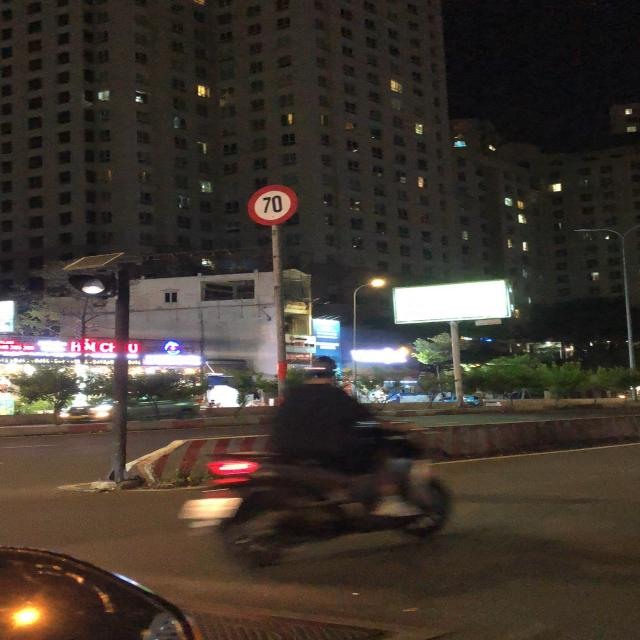Bien bao toc do toi da cho phep: (246, 184, 308, 229)
